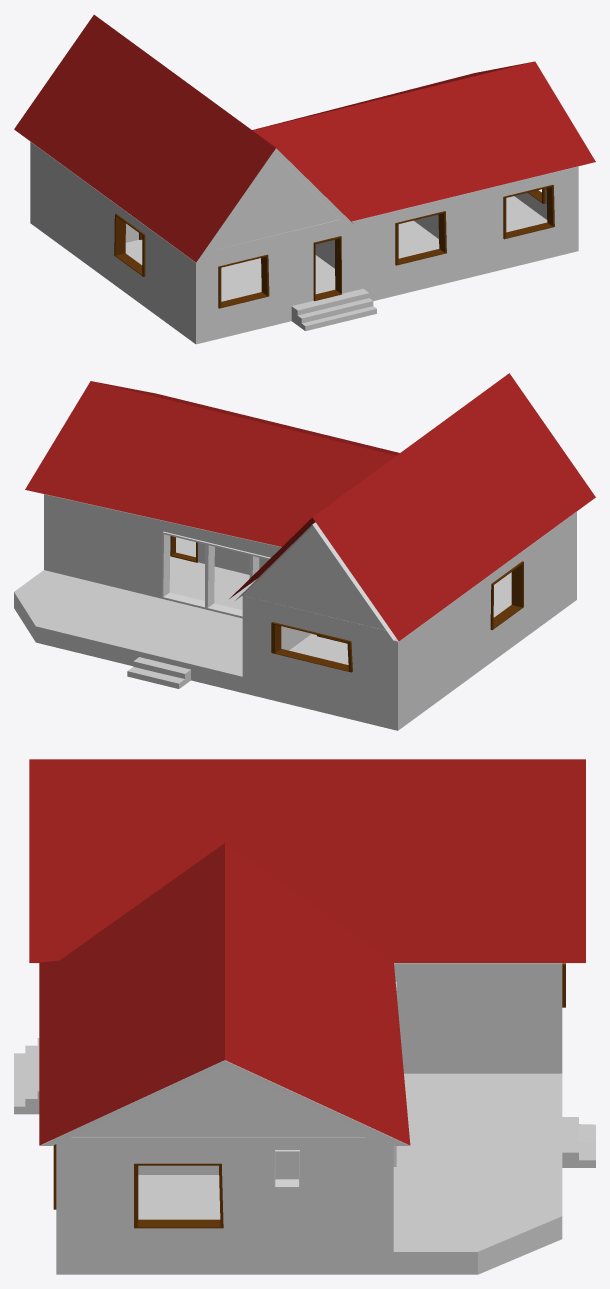
The model's file is Simple-house-2.fbx.
3 views of the same model, one above another, from view 1: azimuth 30°, elevation 25°; view 2: azimuth 150°, elevation 25°; view 3: azimuth 270°, elevation 25° (orthographic). The views are drawn at different scales.
Parts seen in each view (by area): view 1: strechacelokKritina, dom, strechaSpodok, okno zarubna.004, okno zarubna.002, okno zarubna.001, okno zarubna, Hlavna zarubna; view 2: strechacelokKritina, dom, strechaSpodok, okno zarubna.005, okno zarubna.009, okno zarubna.004, okno zarubna.008; view 3: strechacelokKritina, dom, strechaSpodok, okno zarubna.003.
Part boxes in pixels (box(x1,y1,x2,y2)): strechacelokKritina: box(14, 15, 595, 262); dom: box(30, 142, 578, 344); strechaSpodok: box(15, 130, 595, 262); okno zarubna.004: box(114, 213, 145, 276); okno zarubna.002: box(503, 185, 554, 239); okno zarubna.001: box(395, 211, 446, 265); okno zarubna: box(218, 254, 269, 308); Hlavna zarubna: box(313, 236, 341, 301); strechacelokKritina: box(25, 373, 595, 641); dom: box(14, 494, 576, 730); strechaSpodok: box(26, 490, 595, 641); okno zarubna.005: box(271, 622, 352, 672); okno zarubna.009: box(161, 531, 207, 608); okno zarubna.004: box(490, 561, 523, 630); okno zarubna.008: box(206, 542, 252, 617); strechacelokKritina: box(29, 759, 585, 1145); dom: box(14, 963, 595, 1274); strechaSpodok: box(29, 963, 585, 1145); okno zarubna.003: box(134, 1163, 223, 1228).
Bounding box in the file's own units: 1686 × 742 × 1380.
